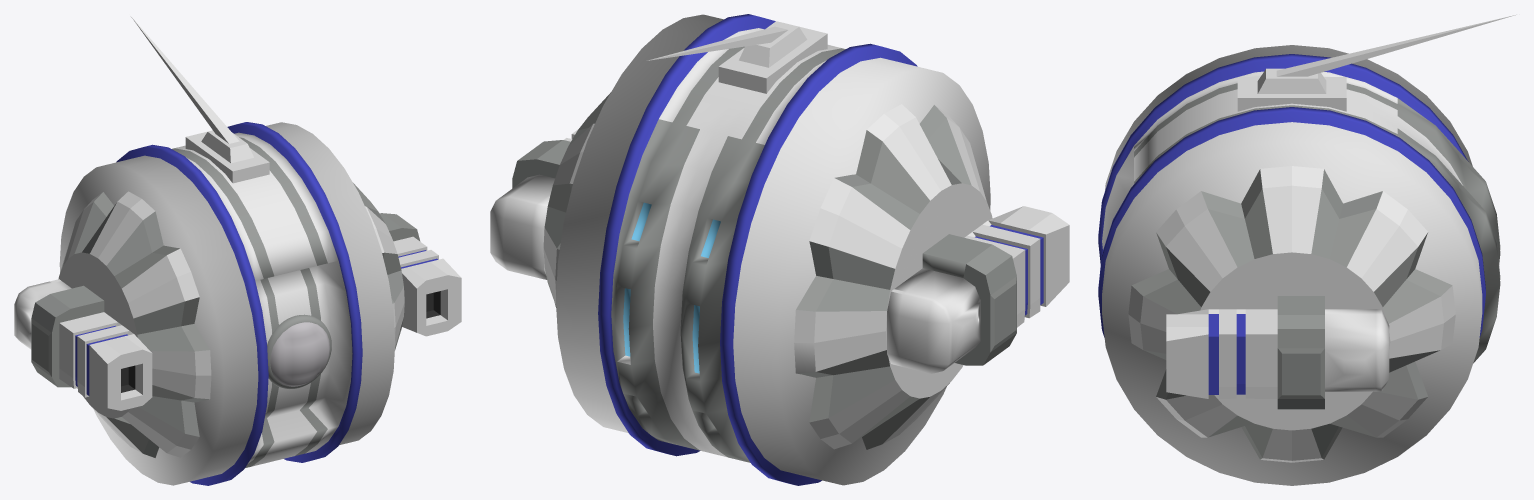
Rendered from drone.fbx.
The picture shows the model from 3 angles, left to right: view 1: azimuth 30°, elevation 25°; view 2: azimuth 150°, elevation 25°; view 3: azimuth 270°, elevation 25°; orthographic projection. The views are drawn at different scales.
Visible parts, largest first — view 1: Core, Cylinder.001, Sphere, Cylinder.002; view 2: Core, Cylinder.001, Cylinder.002; view 3: Core, Cylinder.001, Cylinder.002.
Boxes of the visible parts, box(x1,y1,x2,y2) form: Core: box(59, 122, 395, 485); Cylinder.001: box(14, 183, 461, 457); Sphere: box(267, 314, 331, 388); Cylinder.002: box(131, 16, 269, 183); Core: box(556, 14, 990, 485); Cylinder.001: box(490, 92, 1069, 449); Cylinder.002: box(647, 21, 827, 93); Core: box(1098, 45, 1500, 485); Cylinder.001: box(1128, 166, 1455, 462); Cylinder.002: box(1237, 14, 1516, 111).
Size of the model in its own units: 261 by 252 by 222.
